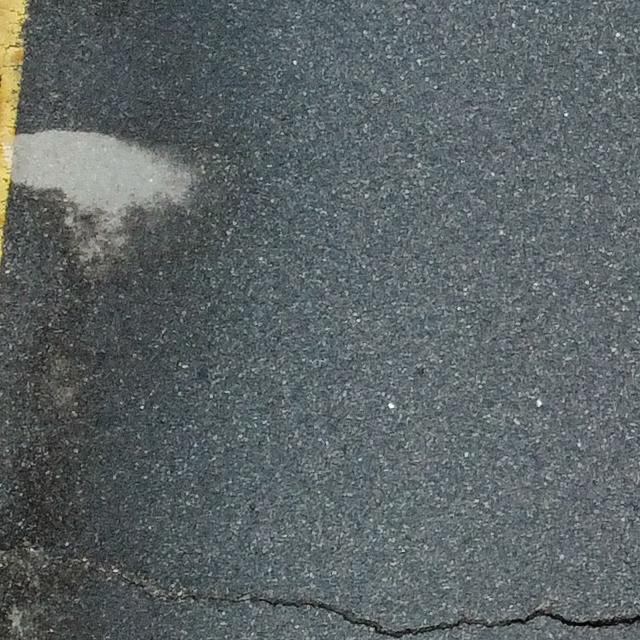TransverseCrack: (223, 593, 640, 640)
